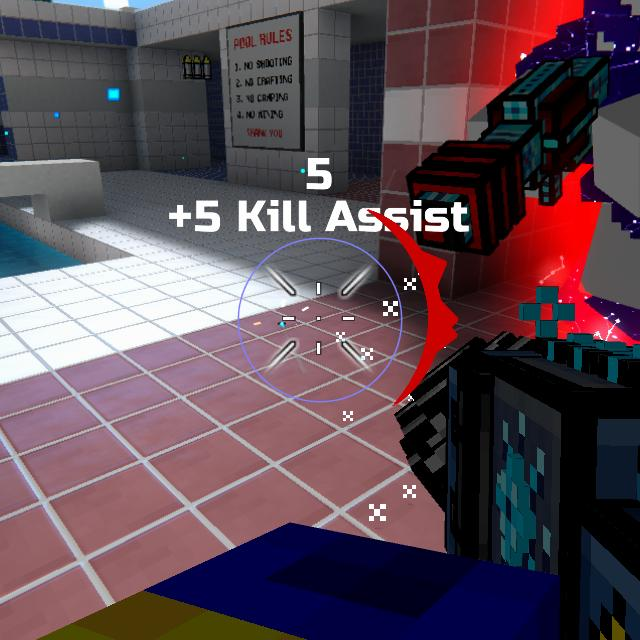Enemy: (515, 0, 640, 341)
